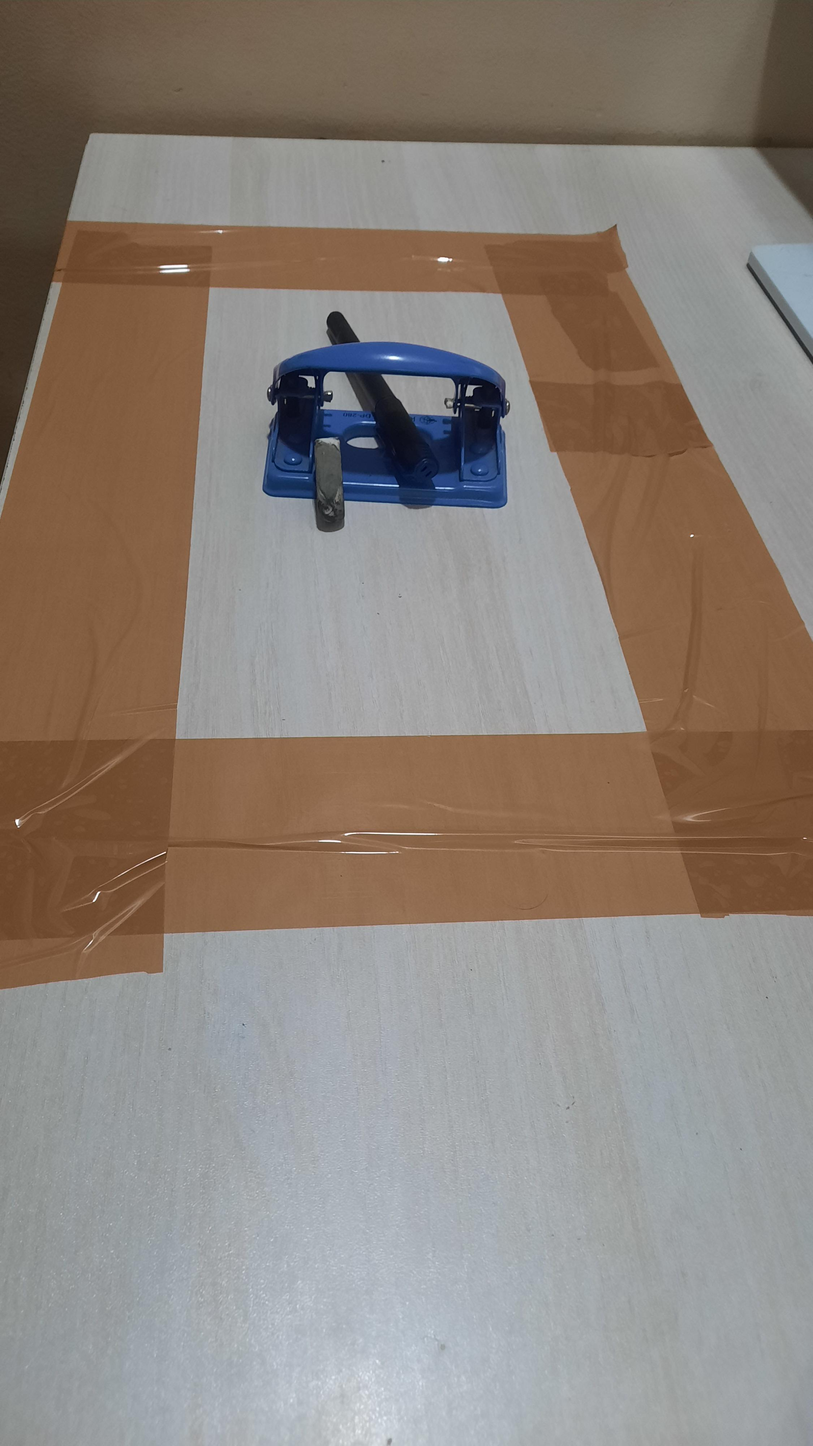Eraser: (313, 437, 345, 532)
Pen: (326, 311, 440, 487)
Punch: (262, 342, 509, 510)
